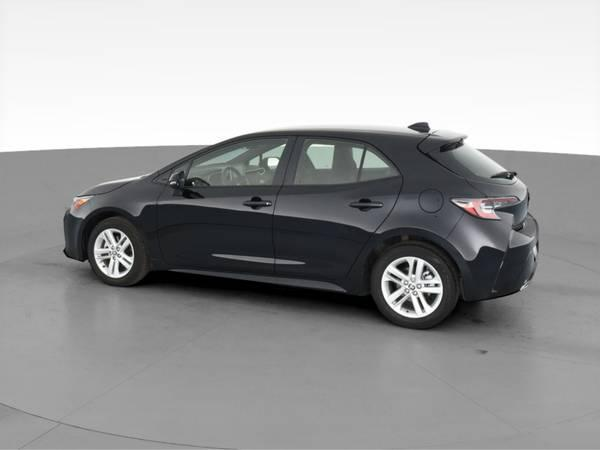Front_Bumper: (61, 209, 89, 261)
Front_Fender: (75, 176, 172, 267)
Front_Left_Door: (155, 182, 281, 283)
Front_Left_Window: (152, 135, 294, 185)
Left_Headlight: (71, 195, 97, 211)
Left_Taillight: (452, 193, 521, 220)
Rear_Bumper: (442, 205, 542, 297)
Rear_Fender: (376, 170, 485, 245)
Rear_Left_Door: (272, 175, 402, 295)
Rear_Left_Window: (281, 134, 400, 186)
Rear_Windshield: (439, 140, 522, 182)
Roof: (147, 124, 467, 177)
Tailgate: (464, 174, 529, 226)
Wheel: (372, 241, 466, 333), (87, 216, 150, 288)
